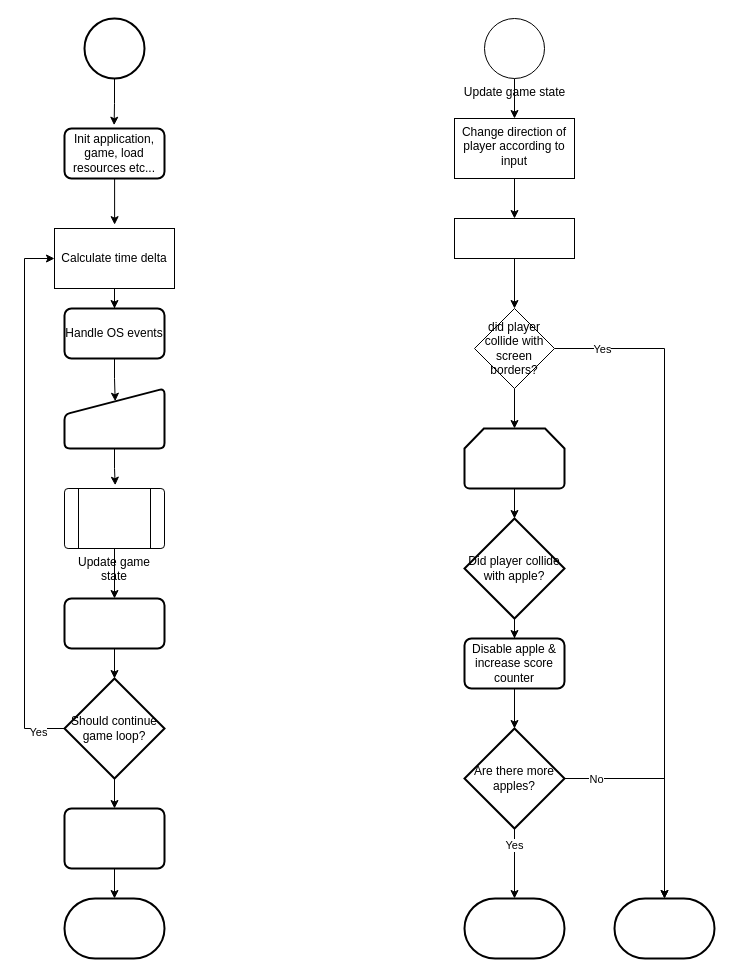
The diagram is 733 pixels wide and 976 high, and some of its shapes have lost their labels. Each missing label, with the centre of its shape:
"Draw game" belongs at (x=114, y=623).
"Finish game loop" belongs at (x=664, y=928).
"For each apple" belongs at (x=514, y=458).
"Free game resources" belongs at (x=114, y=838).
"Get player's input" belongs at (x=114, y=418).
"Update player's position" belongs at (x=514, y=238).
